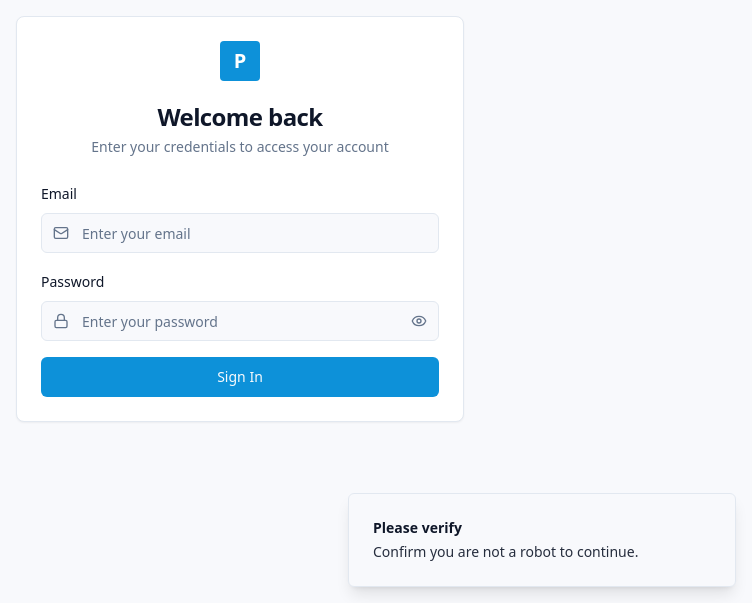
Test: SignIn UI safeguards › shows correct countdown seconds in rate-limit toast
Type "a@b.com" into the field with placeholder "Enter your email" at (240, 233), box [41,213,439,253]
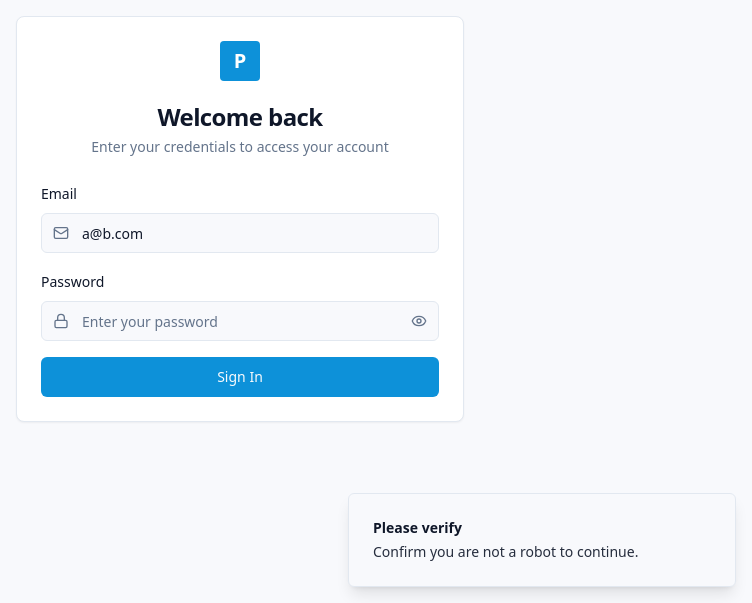
Type "x" into the password field with placeholder "Enter your password" at (240, 321), box [41,301,439,341]
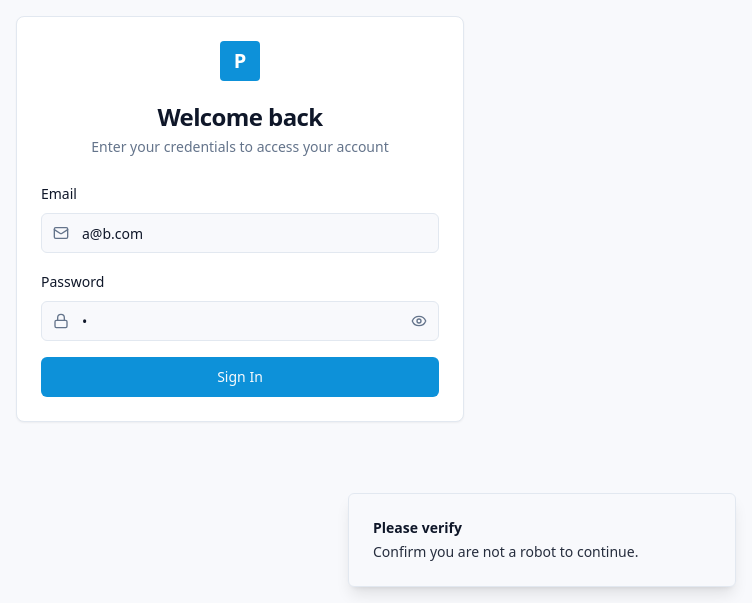
Click the button "Sign In" at (240, 377), box [41,357,439,397]
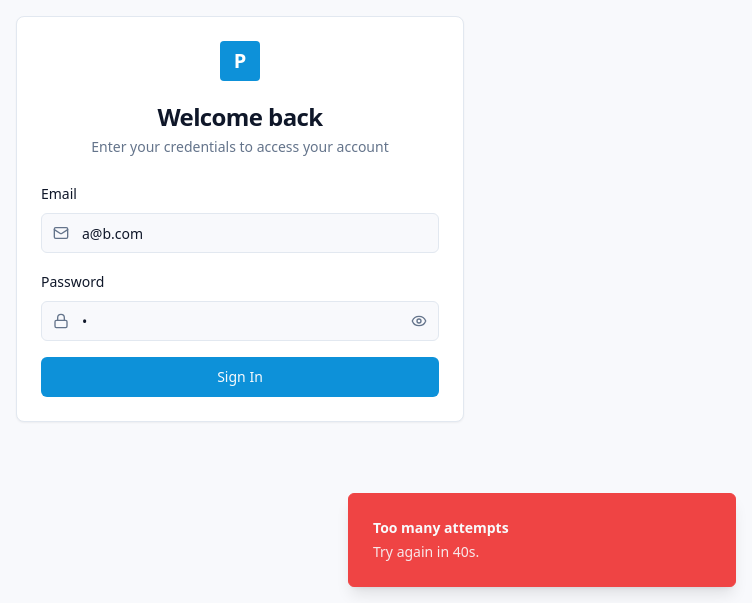
Check: the text "Too many attempts" is shown, box [373,518,509,538]
Check: the text "Try again in 40s." is shown, box [373,542,479,561]
